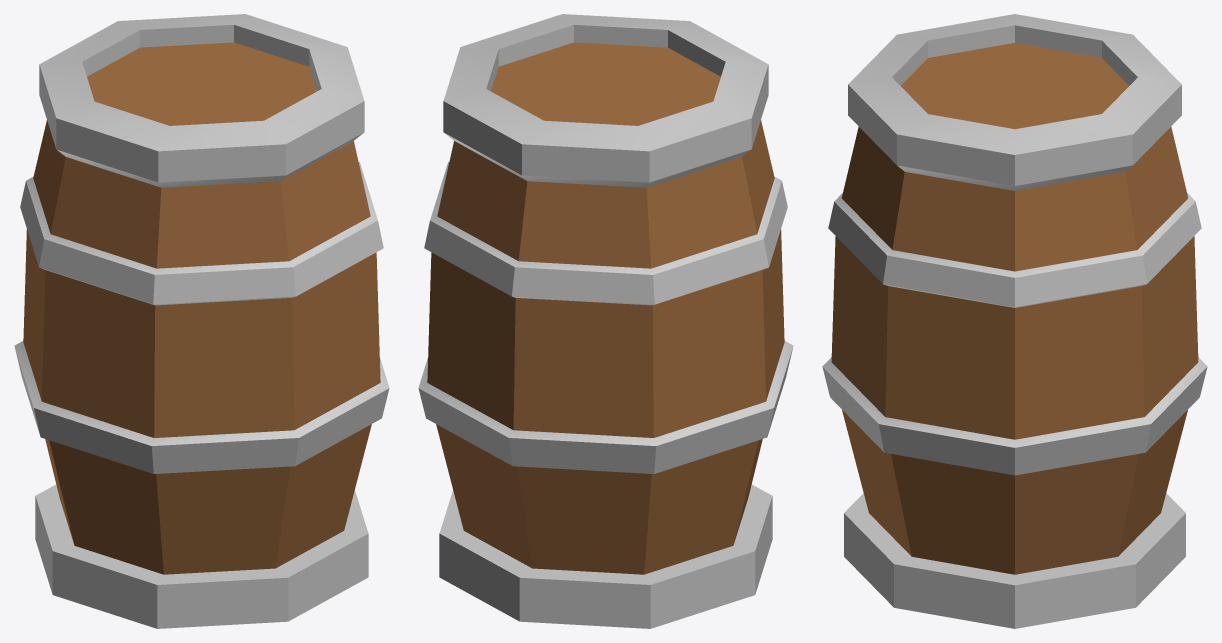
Rendered from Barrel.fbx.
The picture shows the model from 3 angles, left to right: view 1: azimuth 30°, elevation 25°; view 2: azimuth 150°, elevation 25°; view 3: azimuth 270°, elevation 25°; orthographic projection.
Visible parts, largest first — view 1: Barrel; view 2: Barrel; view 3: Barrel.
Boxes of the visible parts, <box> form: Barrel: <box>14,14,389,628</box>; Barrel: <box>418,14,793,628</box>; Barrel: <box>822,14,1207,628</box>.
Size of the model in its own units: 357 by 499 by 357.
